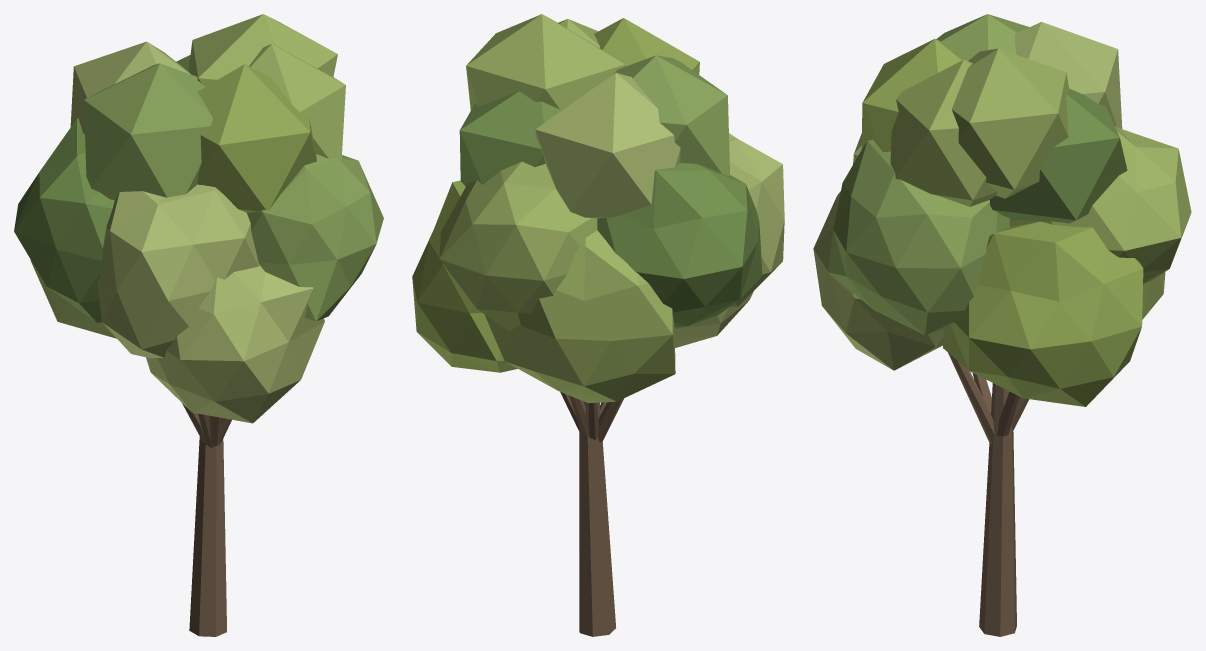
Rendered from ENV_Monza_Oak_03.glb.
The picture shows the model from 3 angles, left to right: view 1: azimuth 30°, elevation 25°; view 2: azimuth 150°, elevation 25°; view 3: azimuth 270°, elevation 25°; orthographic projection.
Parts seen in each view (by area): view 1: ENV_Monza_Oak_03; view 2: ENV_Monza_Oak_03; view 3: ENV_Monza_Oak_03.
Boxes of the visible parts, bbox=[...] form: ENV_Monza_Oak_03: bbox=[14, 14, 383, 636]; ENV_Monza_Oak_03: bbox=[412, 14, 784, 636]; ENV_Monza_Oak_03: bbox=[813, 14, 1191, 636].
Bounding box in the file's own units: 8.9 × 15.77 × 8.9.
